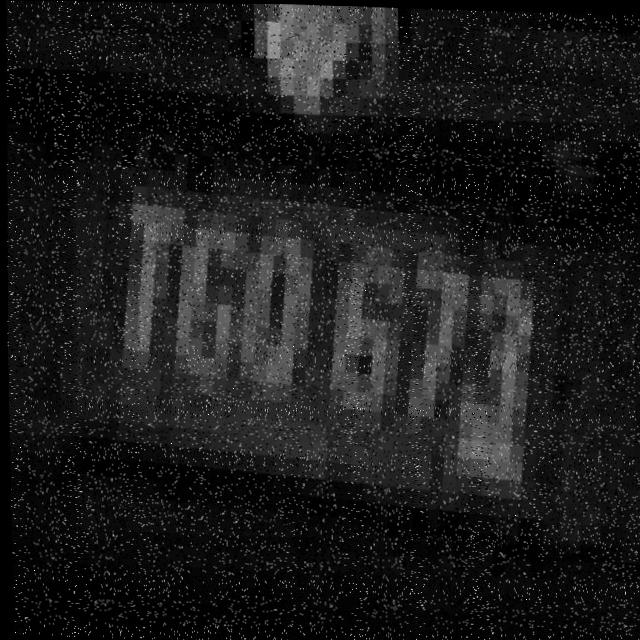LicensePlate: (68, 124, 605, 544)
